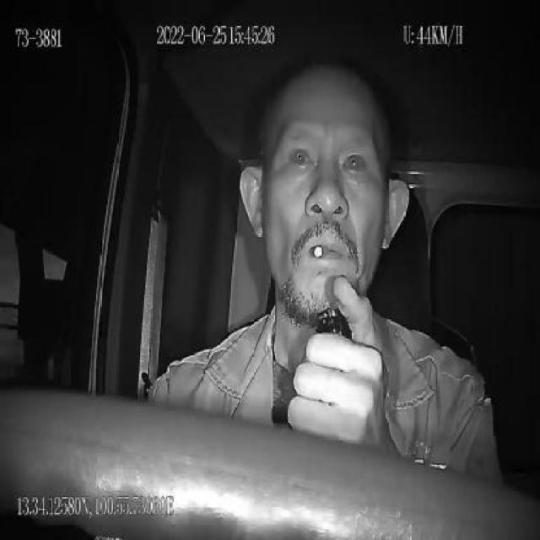smoking: (313, 243, 332, 258)
